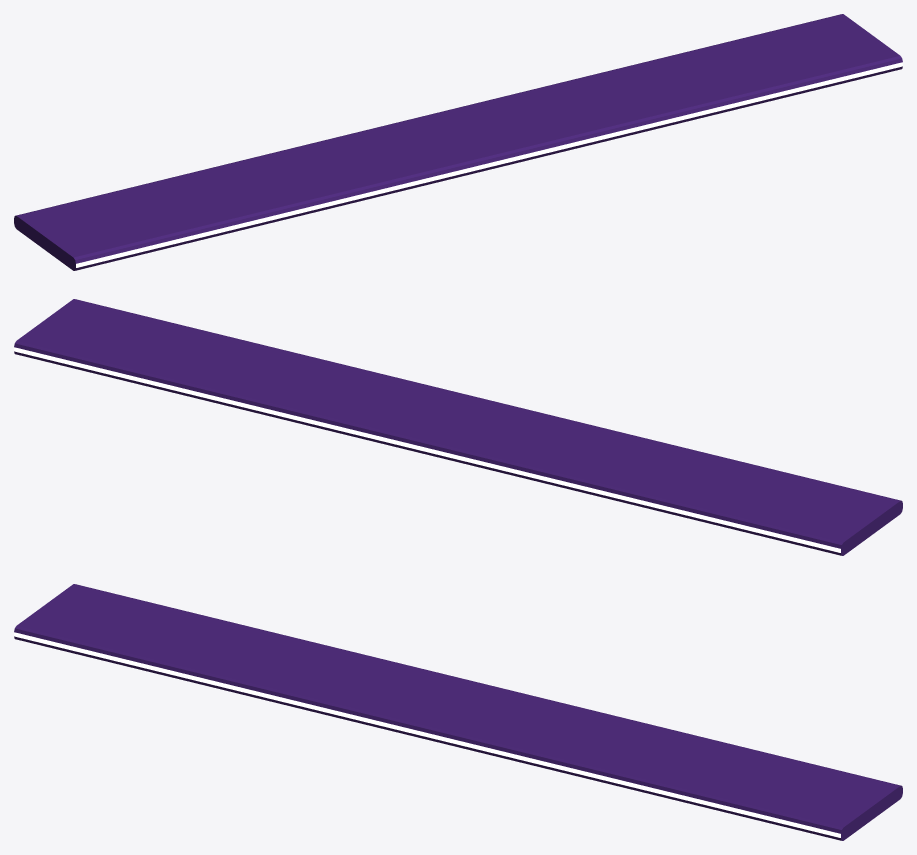
The model's file is panel.fbx.
The picture shows the model from 3 angles, top to bottom: view 1: azimuth 30°, elevation 25°; view 2: azimuth 150°, elevation 25°; view 3: azimuth 330°, elevation 25°; orthographic projection.
Visible parts, largest first — view 1: TestTunnel.007; view 2: TestTunnel.007; view 3: TestTunnel.007.
Boxes of the visible parts, <box> form: TestTunnel.007: <box>14,14,902,270</box>; TestTunnel.007: <box>14,299,902,555</box>; TestTunnel.007: <box>14,584,902,840</box>.
Size of the model in its own units: 5175 by 105 by 672.
